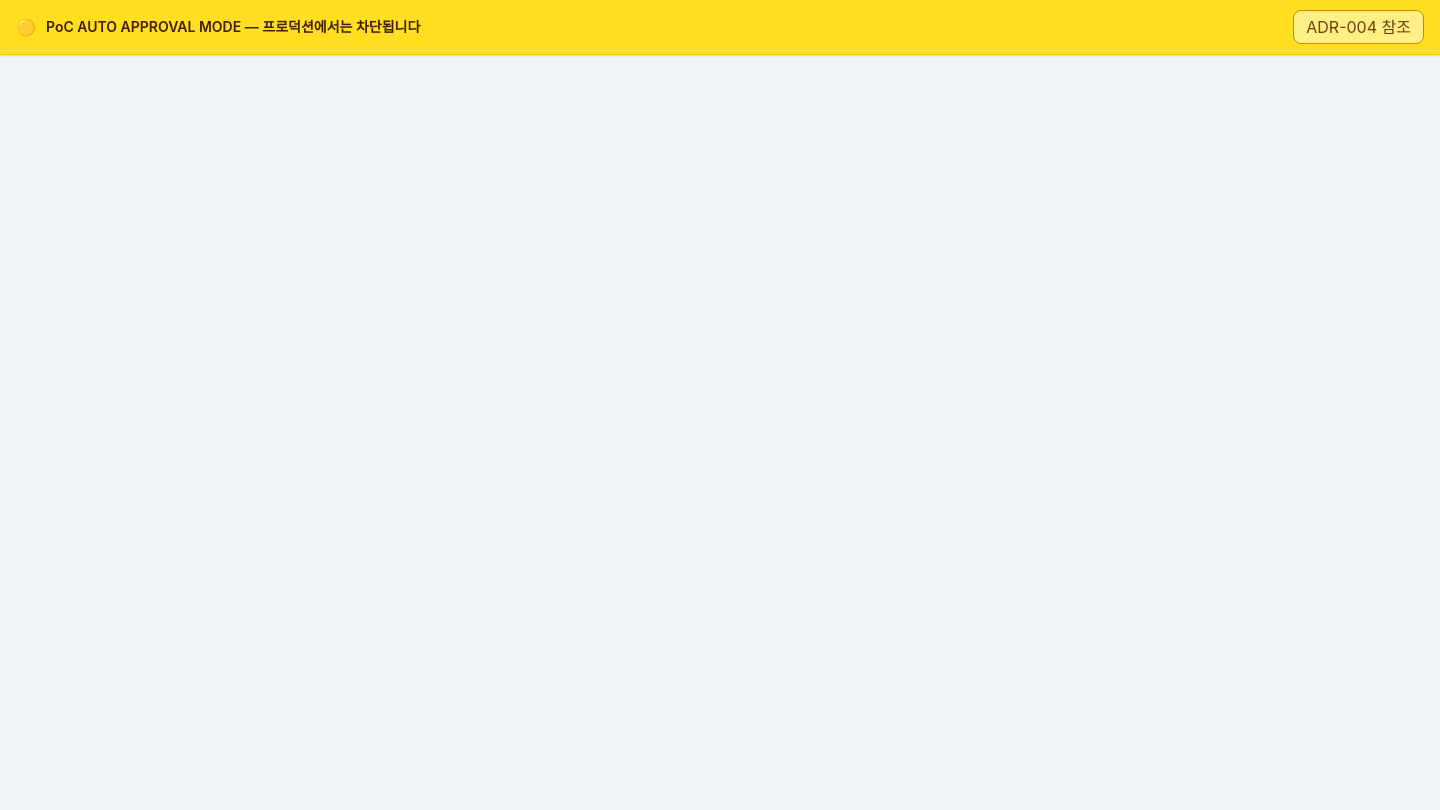
Test: PoCAutoApprovalBadge T306 screenshot regression › modal body references ADR-004 §3 dead-code-elimination guarantee
Click the button "ADR-004 참조" at (1359, 27), box [1293,10,1424,44]
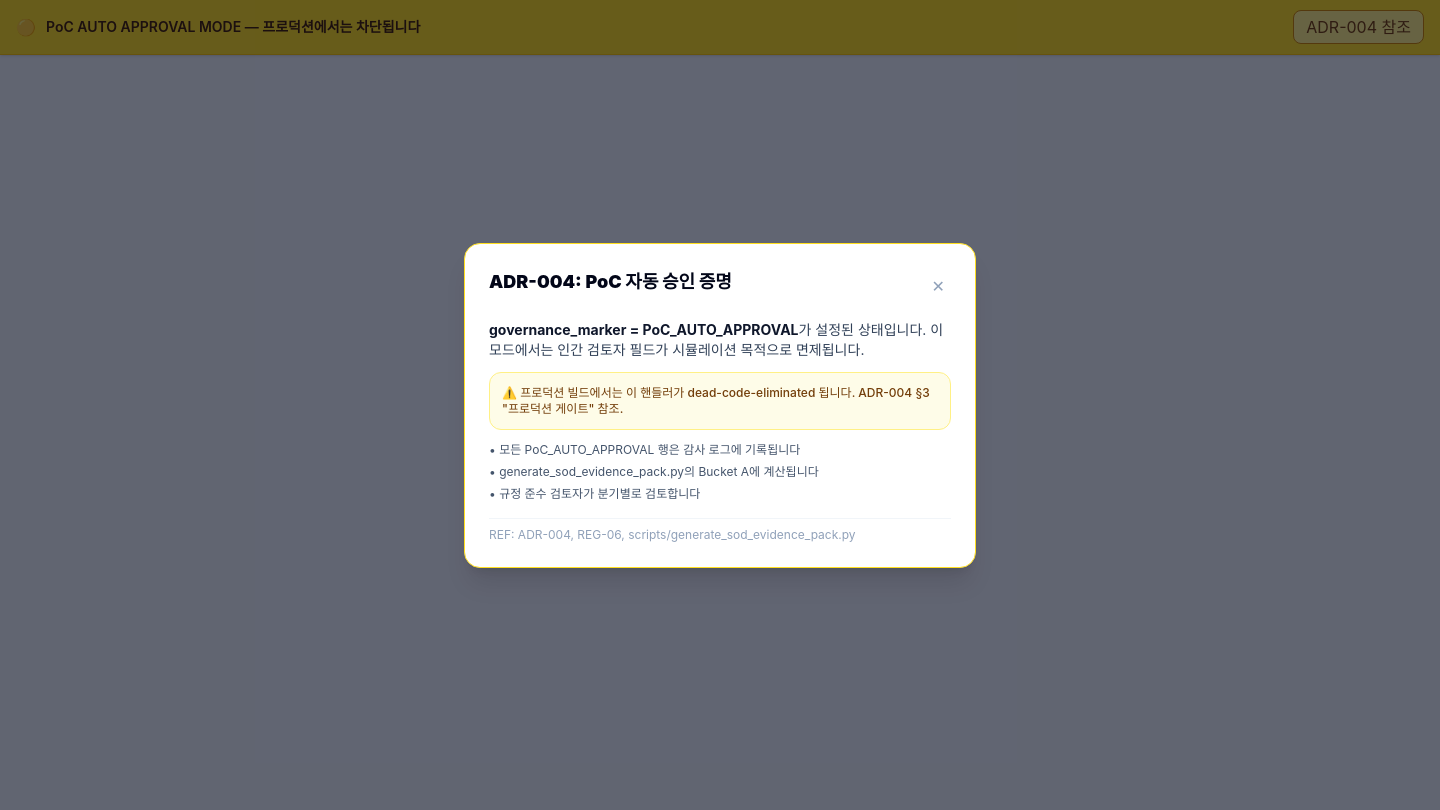
expect the text "프로덕션 빌드에서는 이 핸들러가 dead-code-eliminated 됩니다" is shown: met, box [502,384,930,416]
